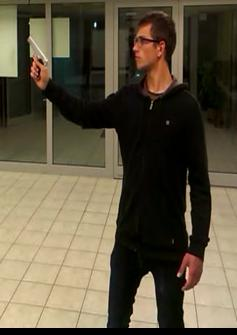pistol: (25, 35, 52, 83)
